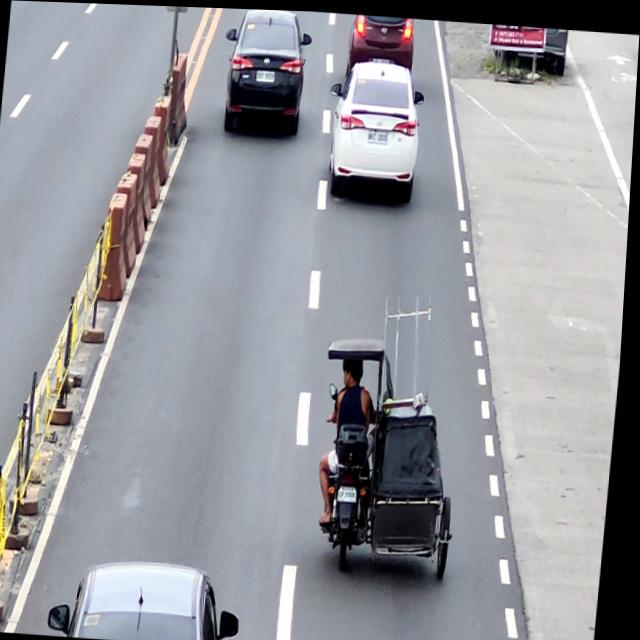Car: (52, 551, 252, 640), (322, 56, 429, 203), (218, 7, 314, 137), (345, 11, 417, 78)
License-Plate: (343, 482, 363, 499), (256, 67, 277, 81), (367, 127, 389, 140)
Tricycle: (314, 333, 475, 577)
